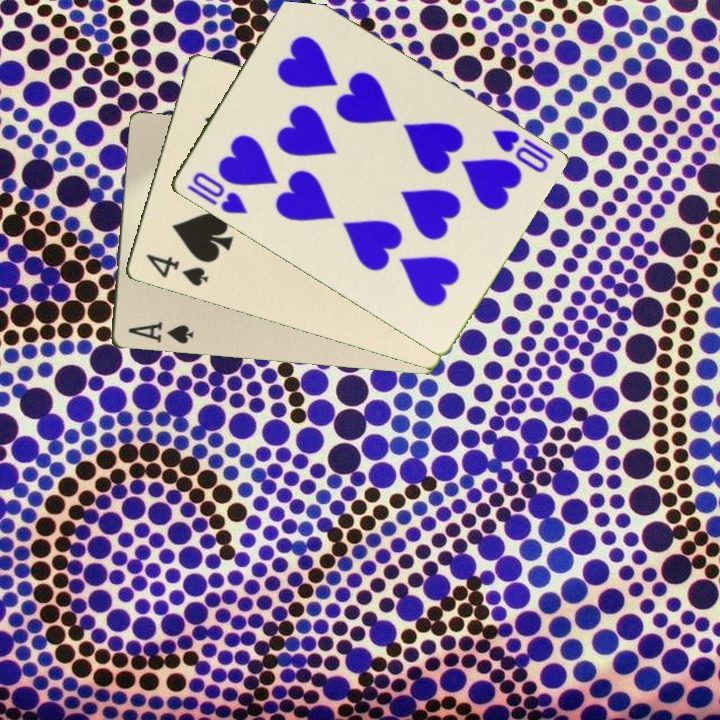10h: (487, 126, 556, 176), (182, 168, 250, 218)
4s: (142, 250, 211, 290)
As: (124, 318, 196, 347)
